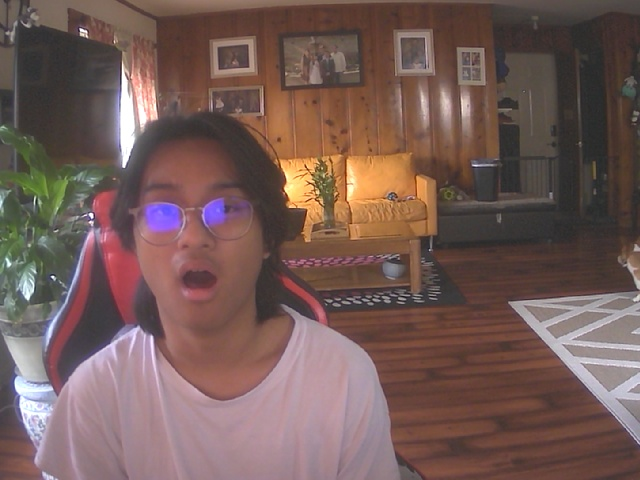fear: (124, 121, 276, 337)
